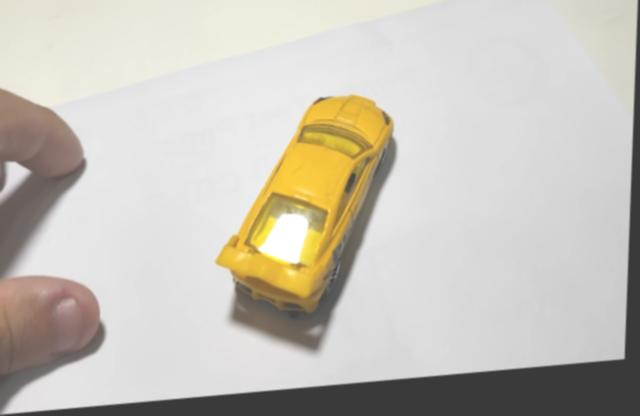07_RHLTURBO: (217, 102, 396, 324)
